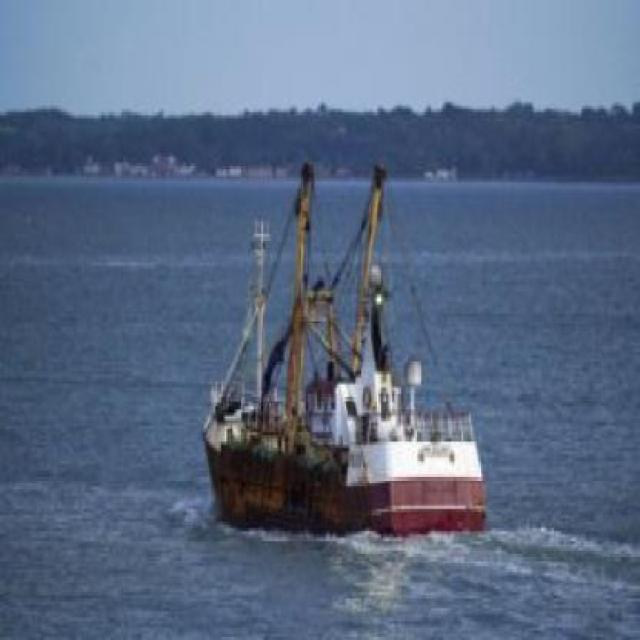fish-b: (187, 142, 512, 565)
